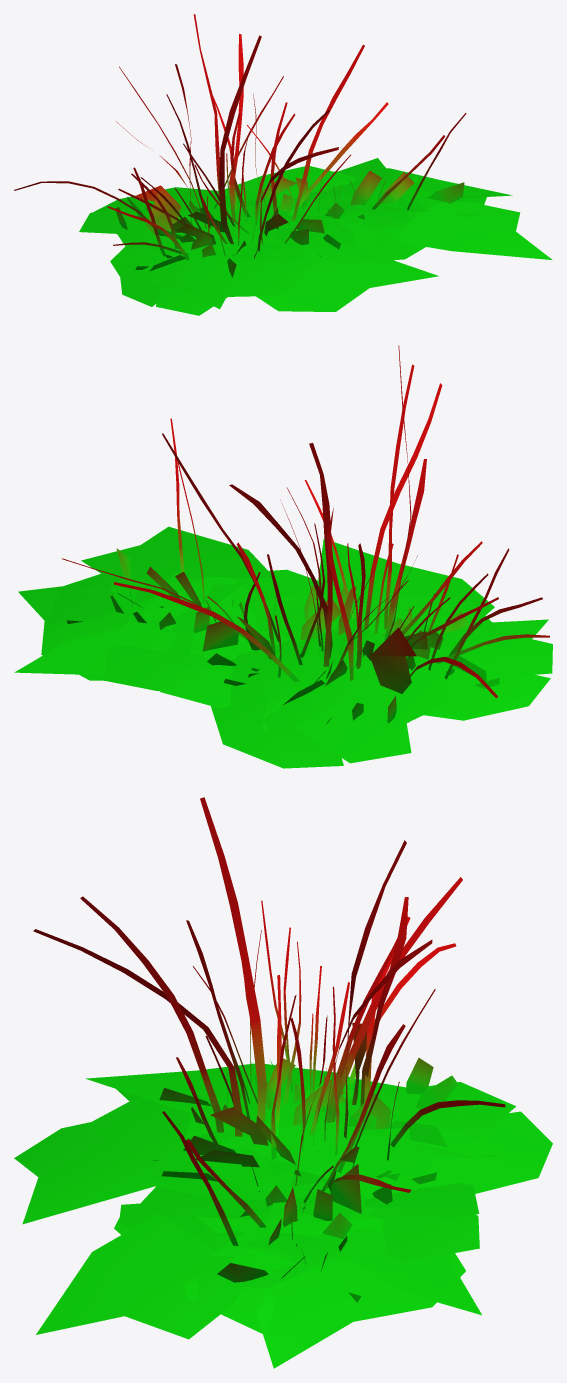
File: Var14_LOD3.fbx
The picture shows the model from 3 angles, top to bottom: view 1: azimuth 30°, elevation 25°; view 2: azimuth 150°, elevation 25°; view 3: azimuth 270°, elevation 25°; orthographic projection. The views are drawn at different scales.
Parts seen in each view (by area): view 1: _ok2u_Var14_LOD3; view 2: _ok2u_Var14_LOD3; view 3: _ok2u_Var14_LOD3.
Boxes of the visible parts, x1,y1,x2,y2 form: _ok2u_Var14_LOD3: (14,14,552,315); _ok2u_Var14_LOD3: (14,345,552,768); _ok2u_Var14_LOD3: (14,797,552,1368).
Size of the model in its own units: 93.86 by 50.68 by 66.33.
